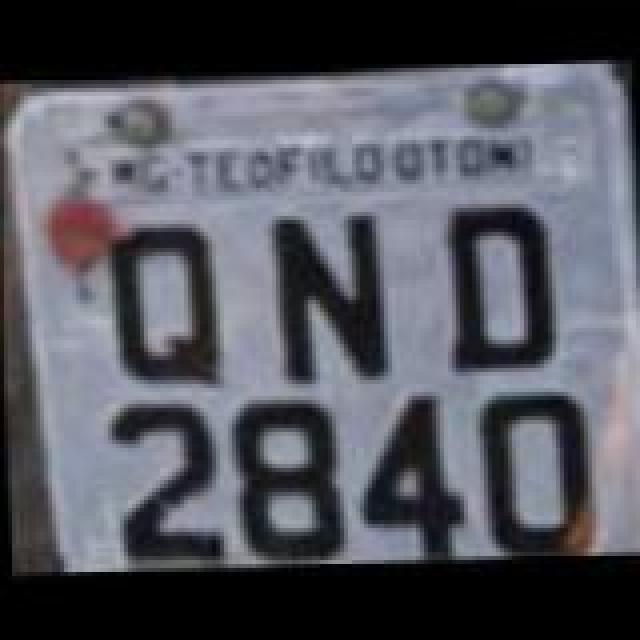2: (98, 394, 230, 570)
4: (346, 390, 470, 566)
8: (224, 398, 344, 562)
N: (264, 202, 396, 390)
O: (444, 204, 568, 380), (474, 392, 590, 560)
Q: (102, 212, 230, 384)
